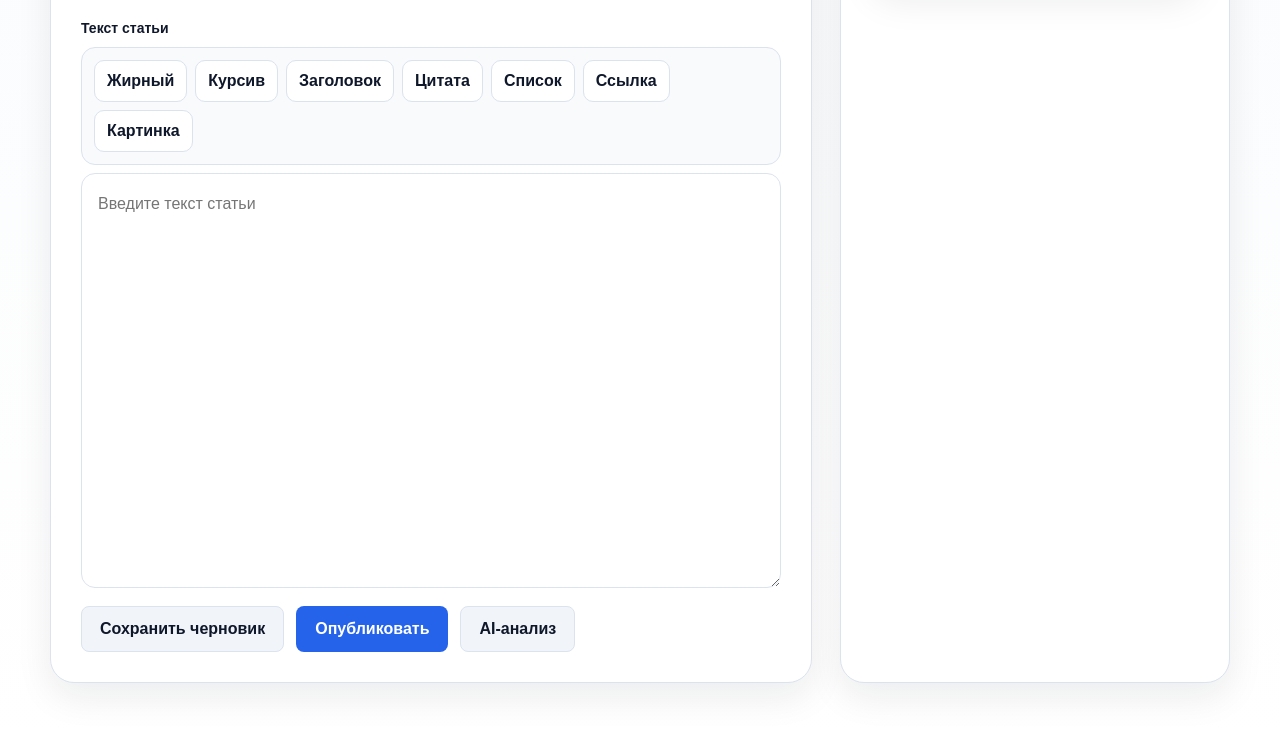
Test: ArticleEditorPage › показывает ошибку при попытке сохранить пустую форму
(page scrolled)
Click the button "Сохранить черновик".
click(183, 629)  # box x1=81 y1=606 x2=284 y2=652
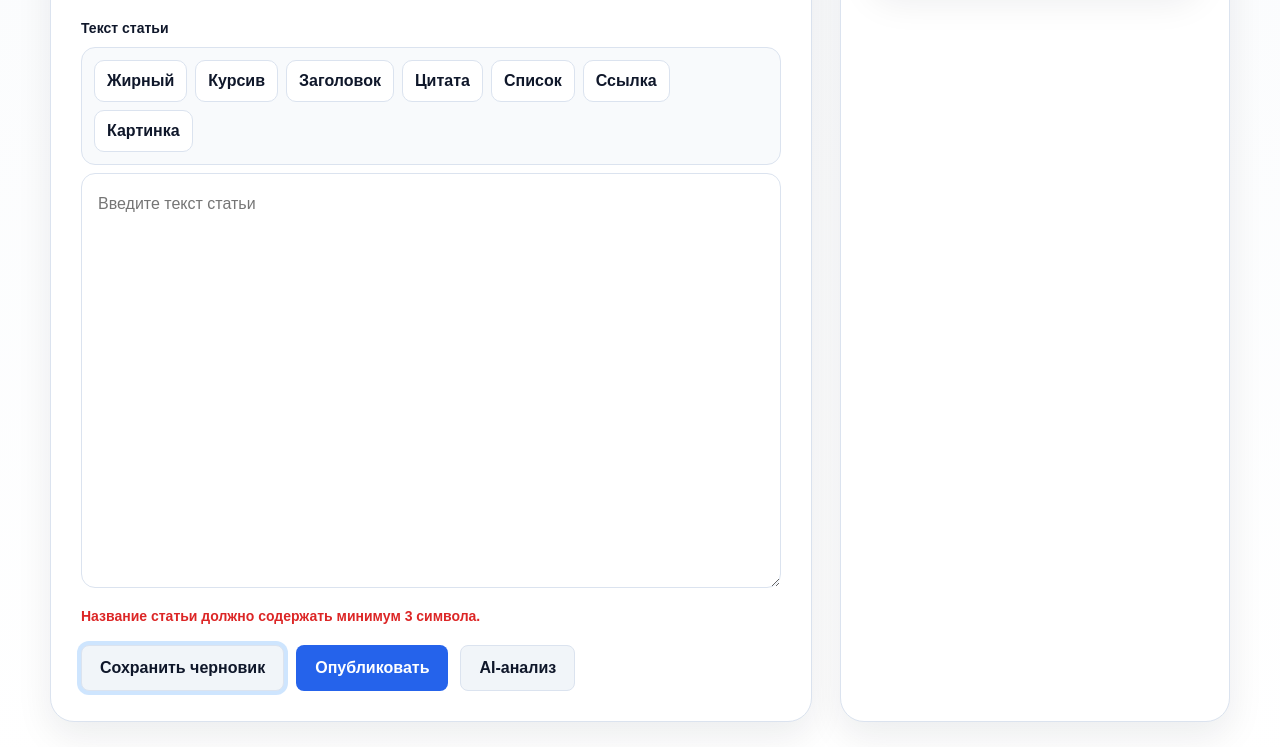
Now the text "Название статьи должно содержать минимум 3 символа." is shown, box x1=81 y1=608 x2=480 y2=624
